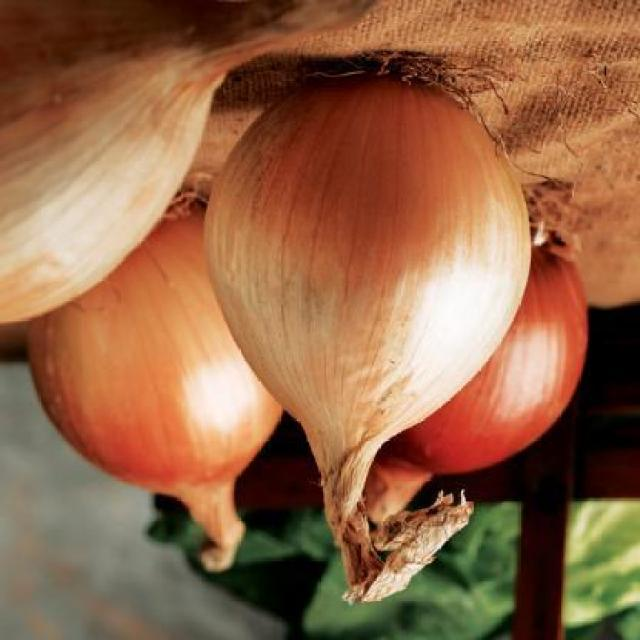onion: (214, 90, 560, 462), (22, 275, 289, 551), (1, 1, 241, 297)
